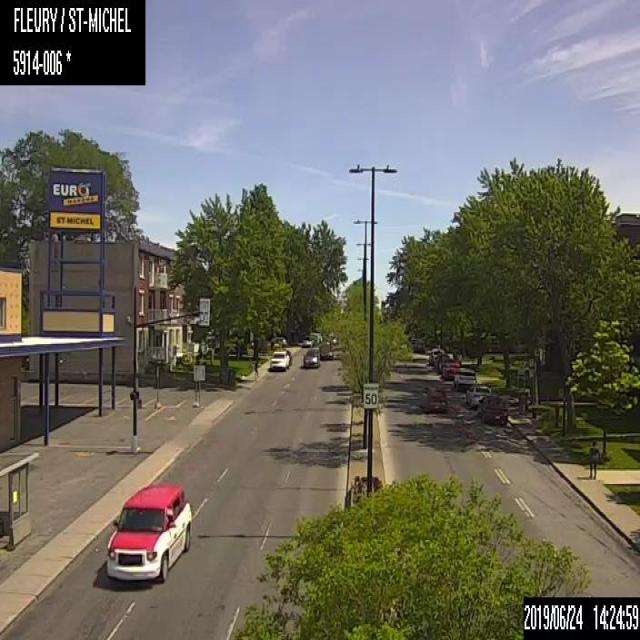pedestrian: (588, 440, 599, 478), (253, 356, 259, 380)
vehicle: (106, 482, 192, 582), (478, 394, 508, 426), (420, 383, 448, 412), (465, 382, 490, 410), (453, 366, 475, 392), (269, 349, 289, 370), (441, 360, 461, 380), (303, 347, 319, 368), (434, 353, 449, 374), (317, 344, 333, 359), (428, 348, 441, 366), (268, 336, 286, 348)
